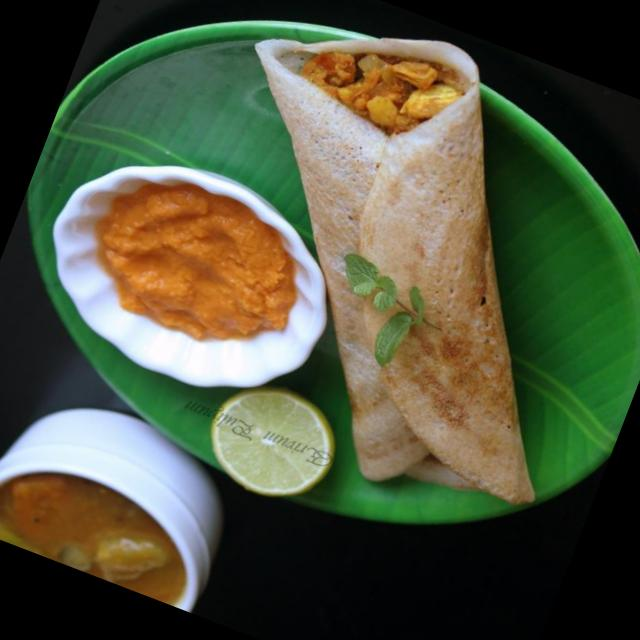chicken: (77, 180, 300, 364), (0, 448, 209, 607), (294, 21, 461, 148)
